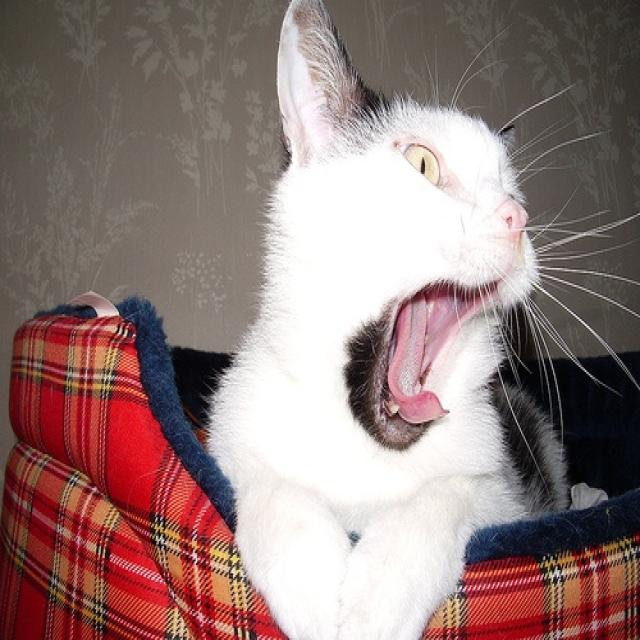cat: (204, 1, 573, 639)
